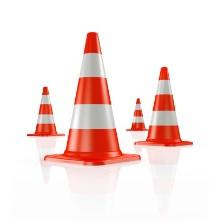traffic cone: (44, 31, 142, 166), (134, 67, 193, 147), (26, 86, 65, 137), (126, 98, 149, 132)
